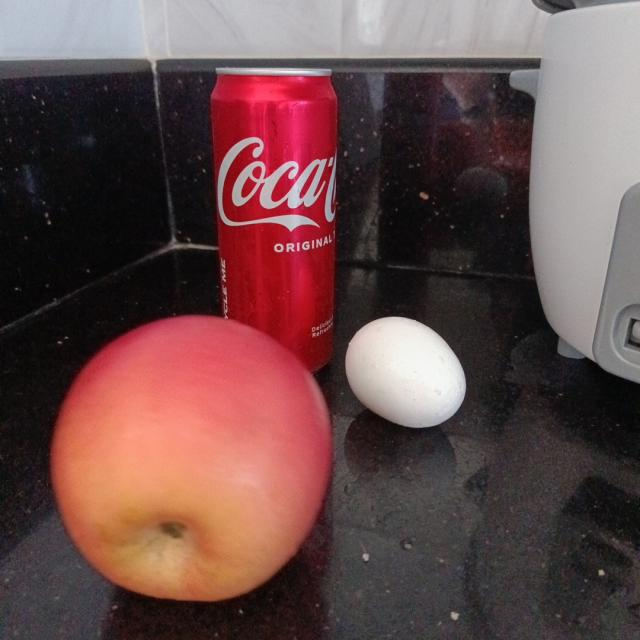apple: (48, 315, 330, 602)
coke: (204, 65, 337, 372)
egg: (346, 316, 468, 428)
